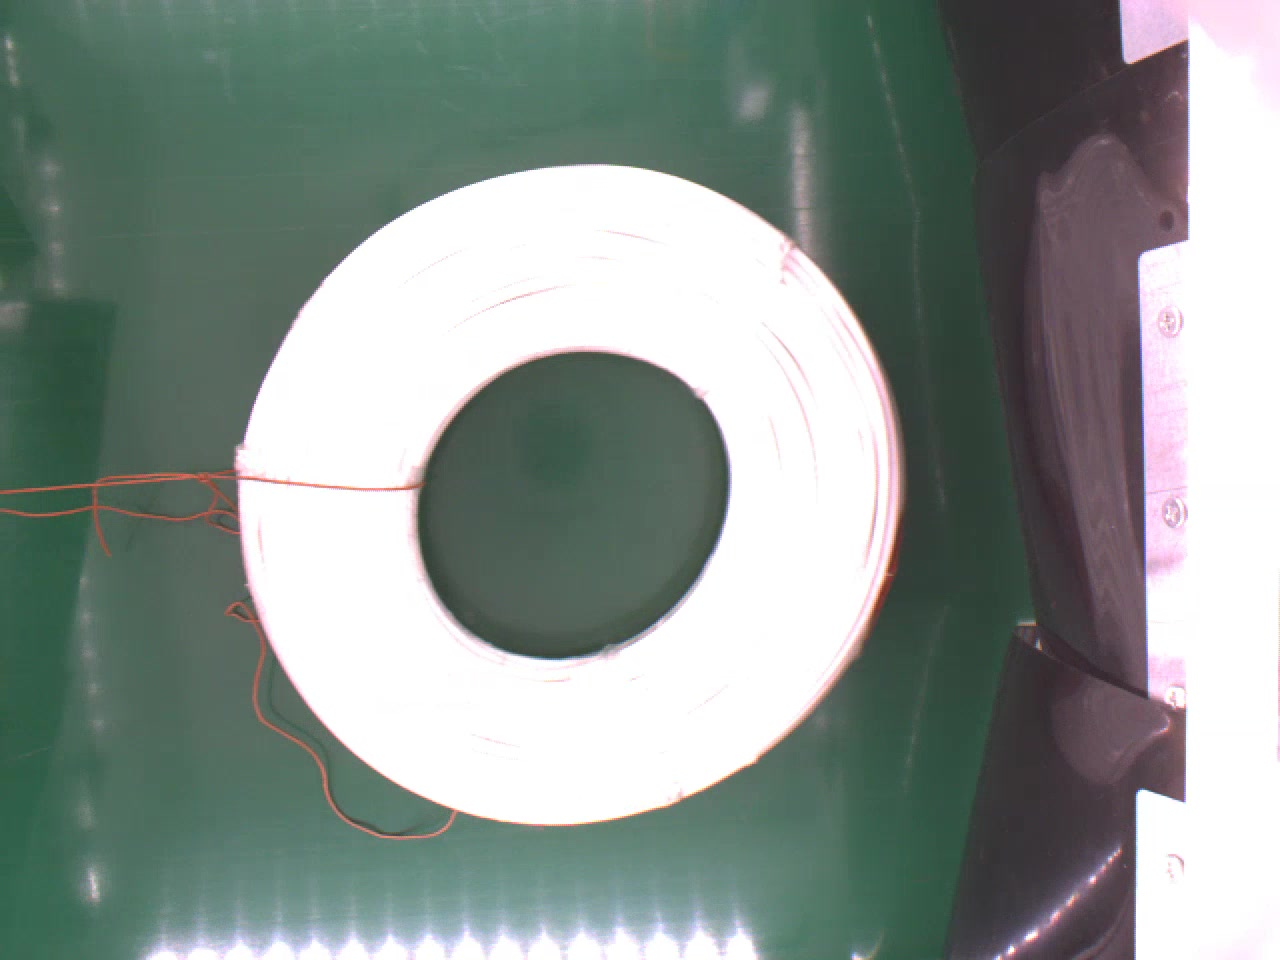white: (229, 162, 898, 833)
